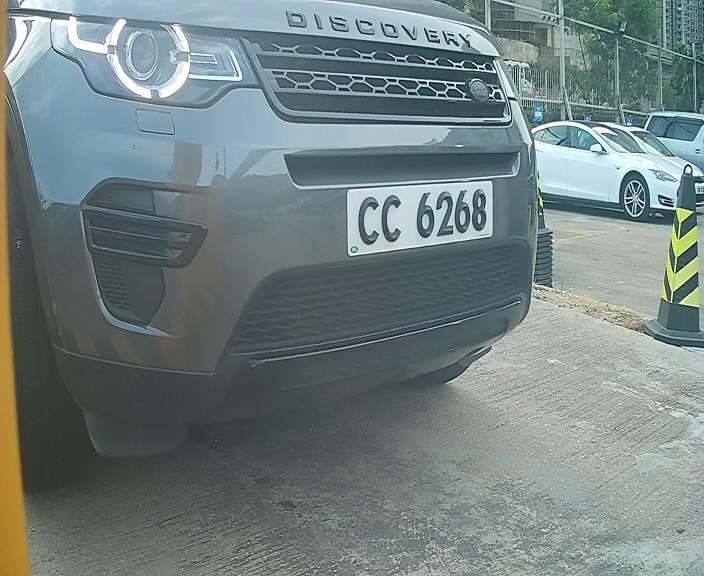privatecar: (10, 3, 557, 427)
